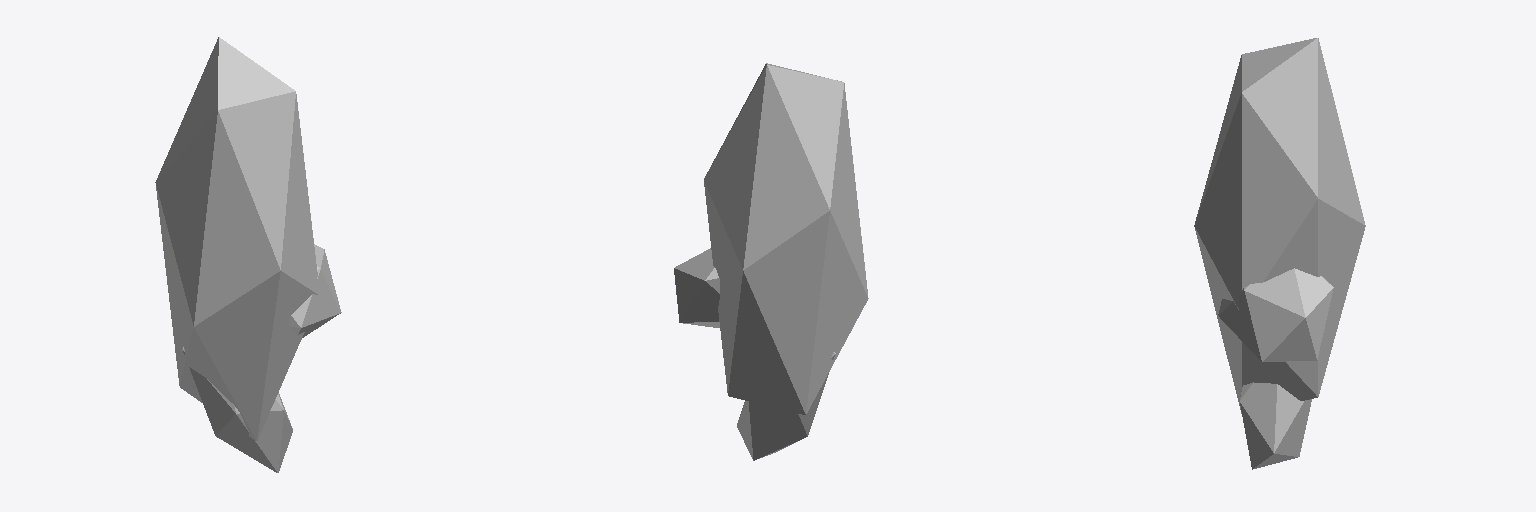
The model's file is nuage2.obj.
The picture shows the model from 3 angles: view 1: azimuth 30°, elevation 25°; view 2: azimuth 150°, elevation 25°; view 3: azimuth 270°, elevation 25°; orthographic projection.
Parts seen in each view (by area): view 1: Icosphere.003, Icosphere.004, Icosphere.005; view 2: Icosphere.003, Icosphere.004, Icosphere.005; view 3: Icosphere.003, Icosphere.005, Icosphere.004.
Boxes of the visible parts, x1,y1,x2,y2 form: Icosphere.003: [155, 37, 318, 440]; Icosphere.004: [182, 347, 292, 472]; Icosphere.005: [289, 244, 341, 337]; Icosphere.003: [704, 63, 868, 414]; Icosphere.004: [737, 352, 835, 460]; Icosphere.005: [674, 248, 719, 327]; Icosphere.003: [1194, 38, 1365, 413]; Icosphere.005: [1218, 268, 1333, 361]; Icosphere.004: [1240, 382, 1311, 469].
Bounding box in the file's own units: 6.07 × 14.94 × 5.54.